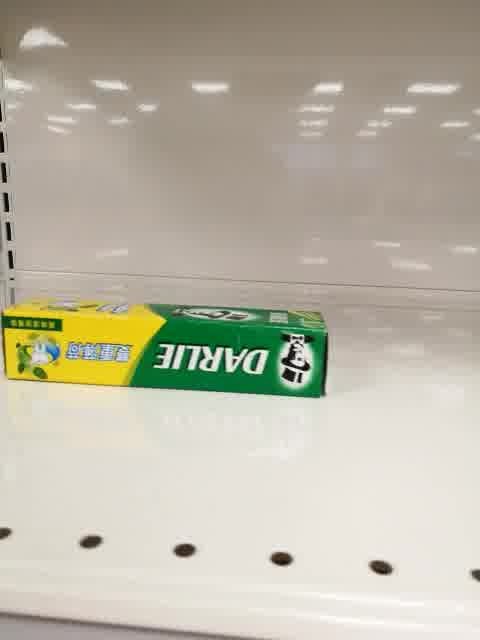toothpaste: (2, 293, 330, 401)
